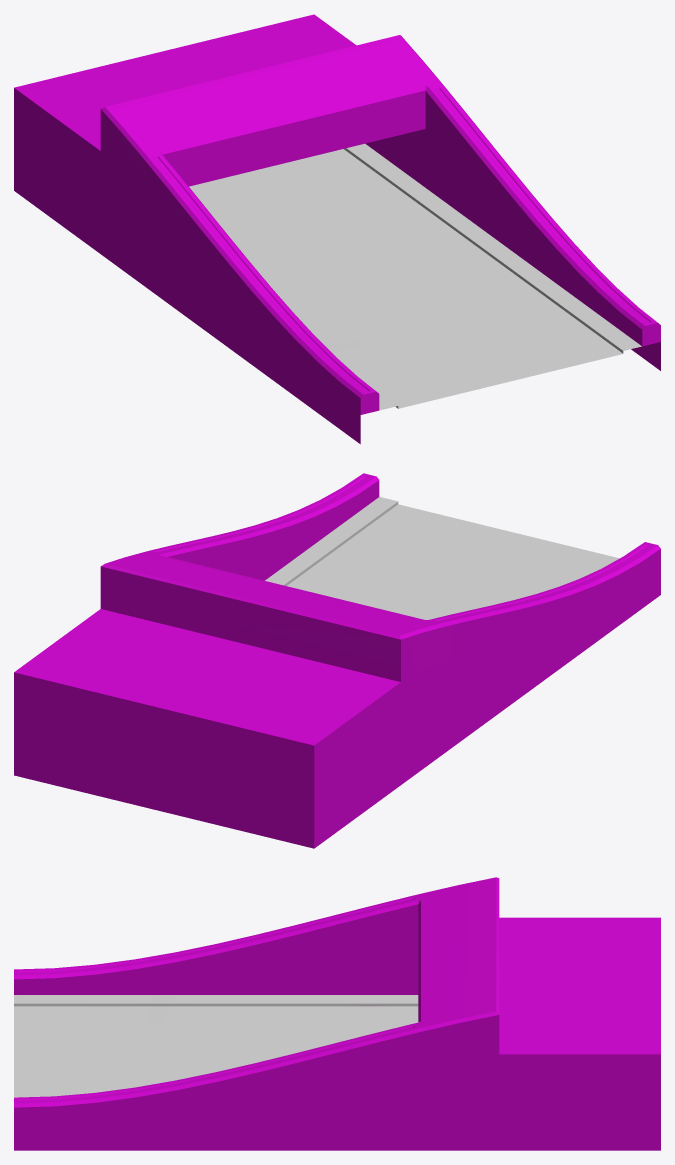
File: EightLaneRoadSlopeSegment.fbx
3 renders of one model, top to bottom at view 1: azimuth 30°, elevation 25°; view 2: azimuth 150°, elevation 25°; view 3: azimuth 270°, elevation 25°, orthographic. The views are drawn at different scales.
Visible parts, largest first — view 1: EightLaneRoadSlopeSegment; view 2: EightLaneRoadSlopeSegment; view 3: EightLaneRoadSlopeSegment.
Part boxes in pixels (bbox=[...]): EightLaneRoadSlopeSegment: bbox=[14, 14, 660, 444]; EightLaneRoadSlopeSegment: bbox=[14, 473, 660, 848]; EightLaneRoadSlopeSegment: bbox=[14, 877, 660, 1150].
Bounding box in the file's own units: 3200 × 1506 × 6400.
